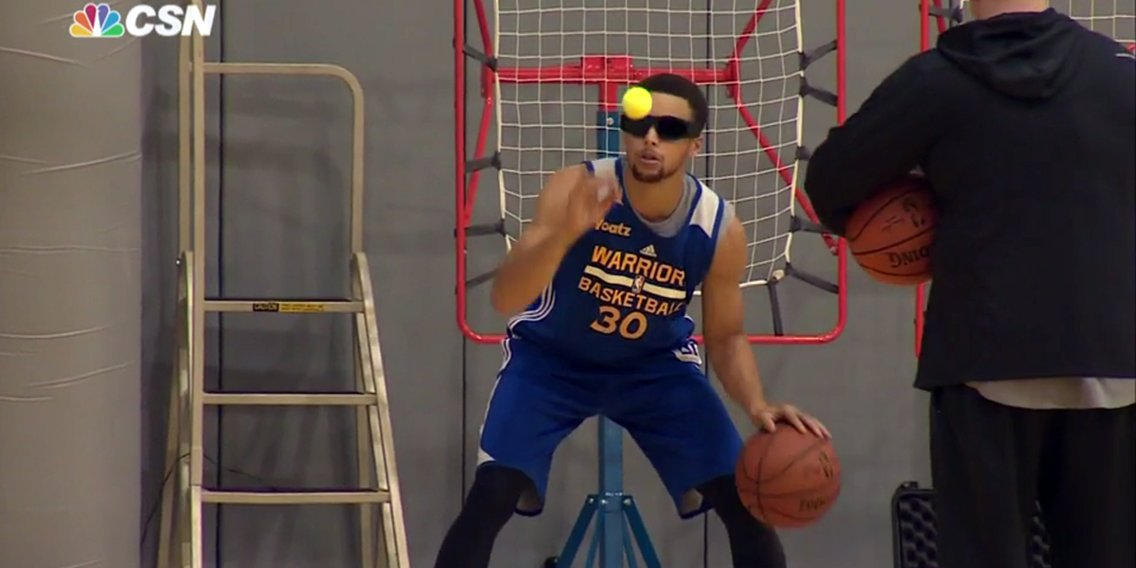tennis_ball: (617, 85, 653, 121)
